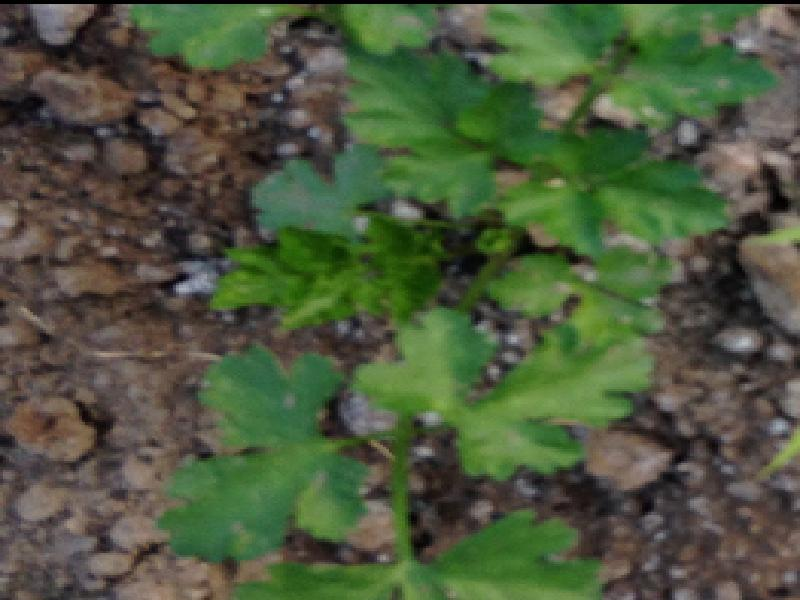radish: (0, 18, 800, 515)
